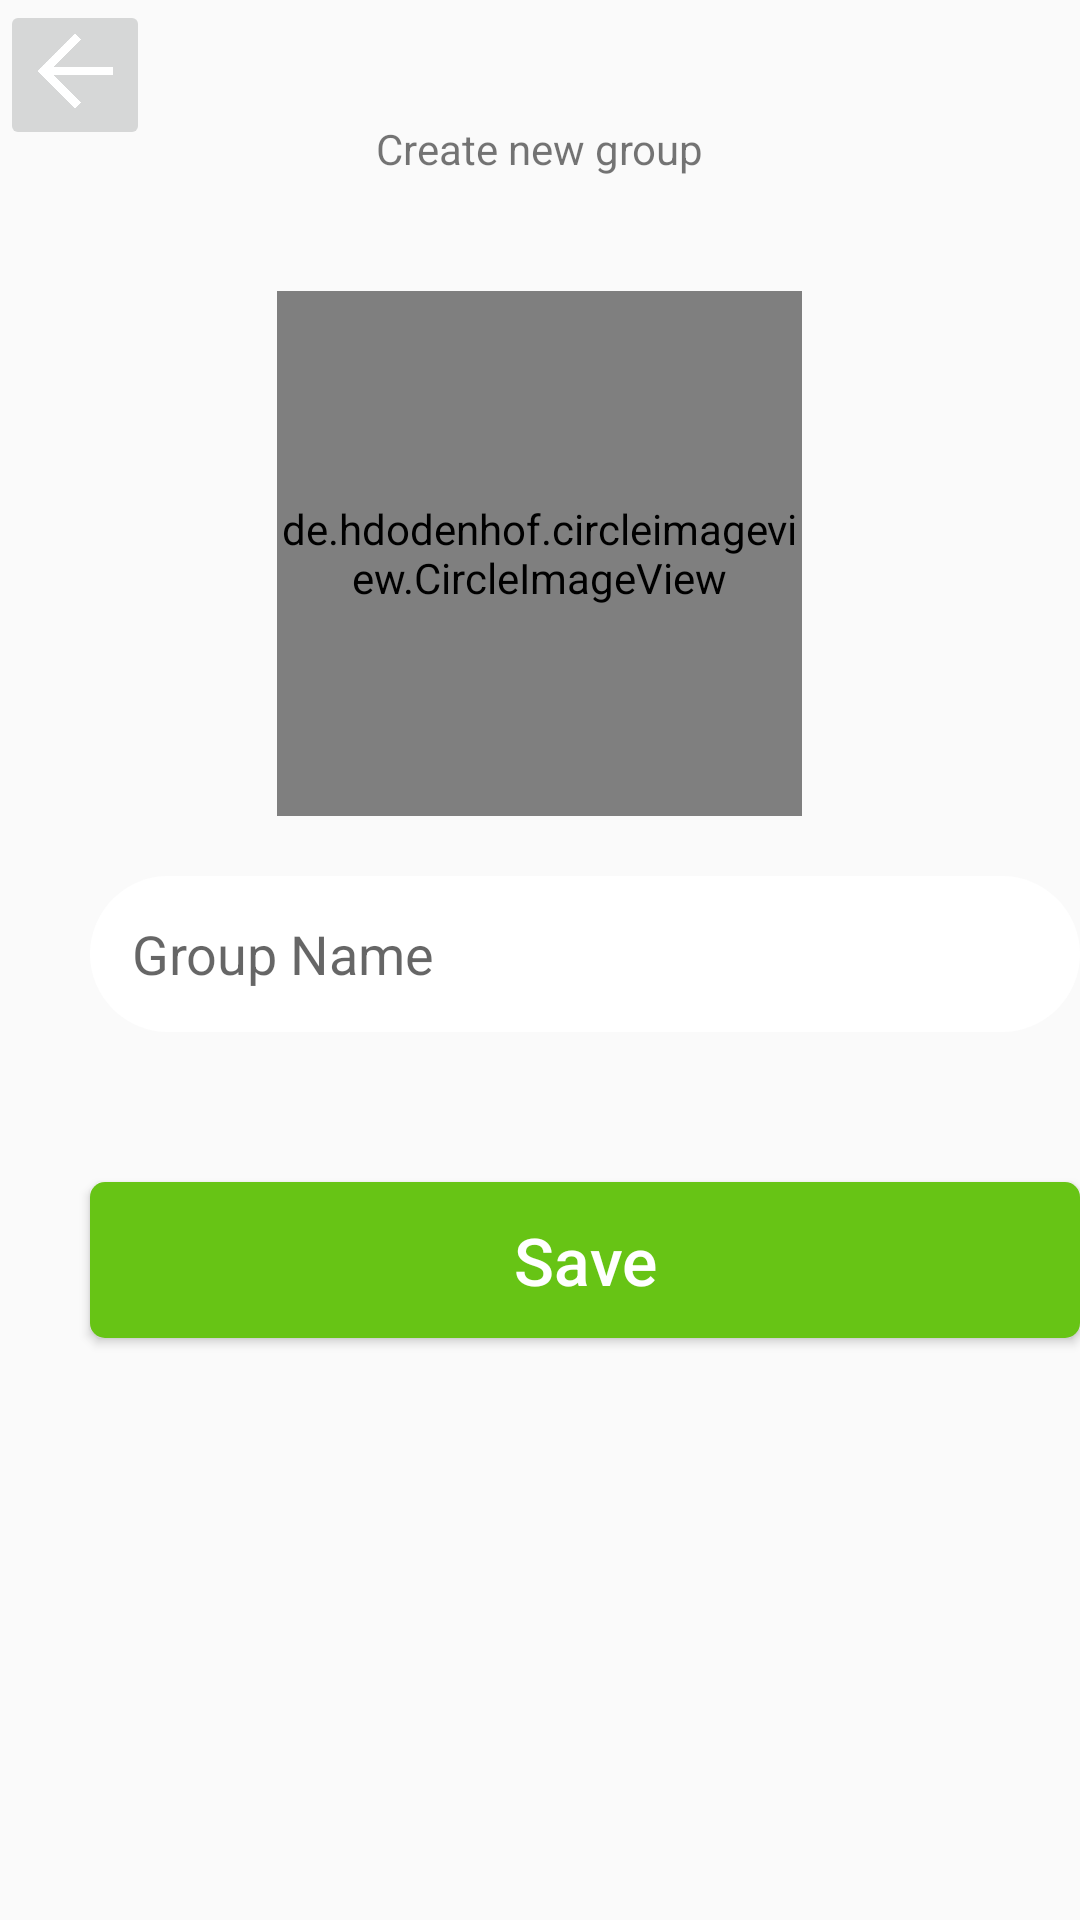

Icons on this 1080 × 1920 Android screen, each with its box as (x1, y1, x2, y2):
whitearrow: (12, 18, 138, 132)
